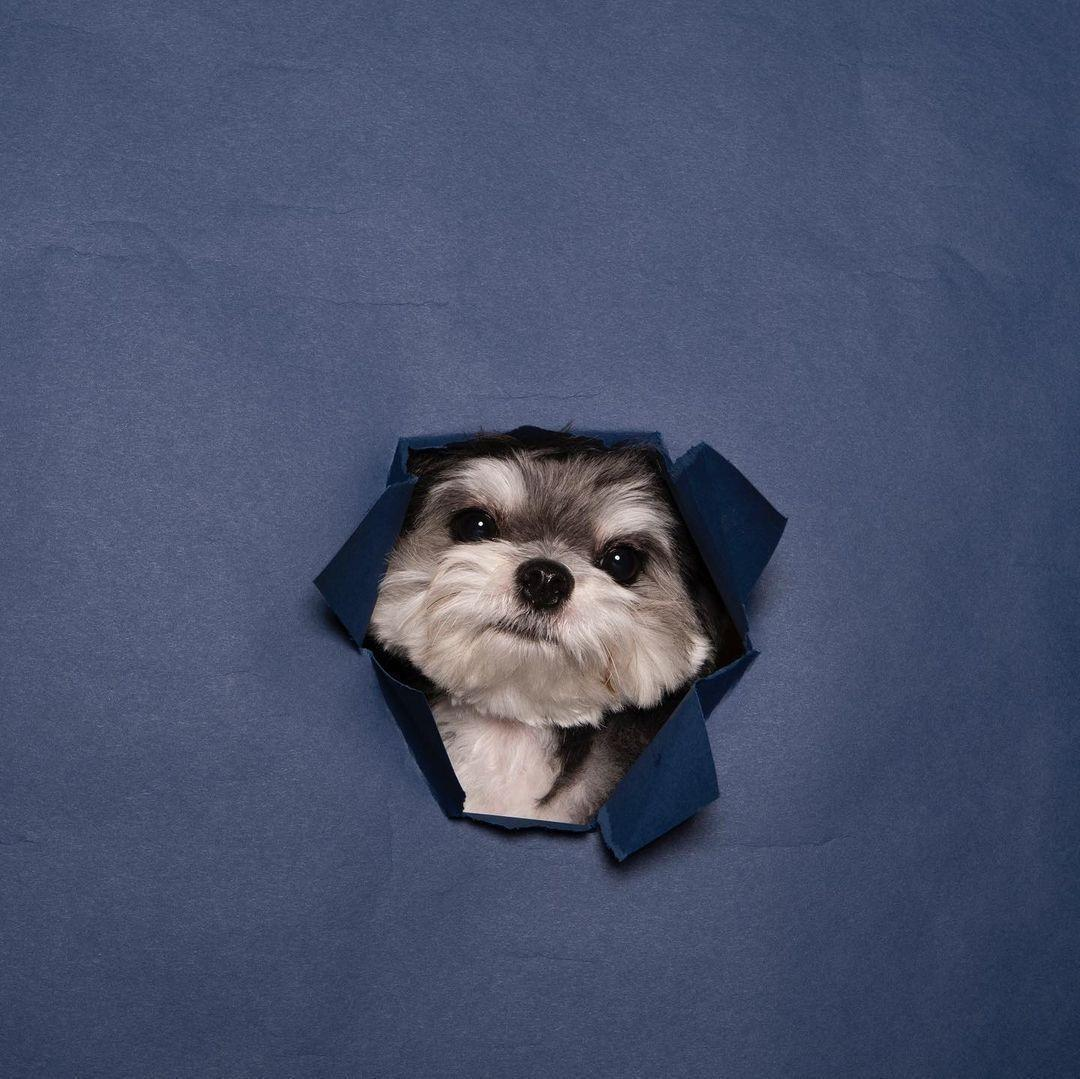puppy-dog: (365, 428, 722, 829)
